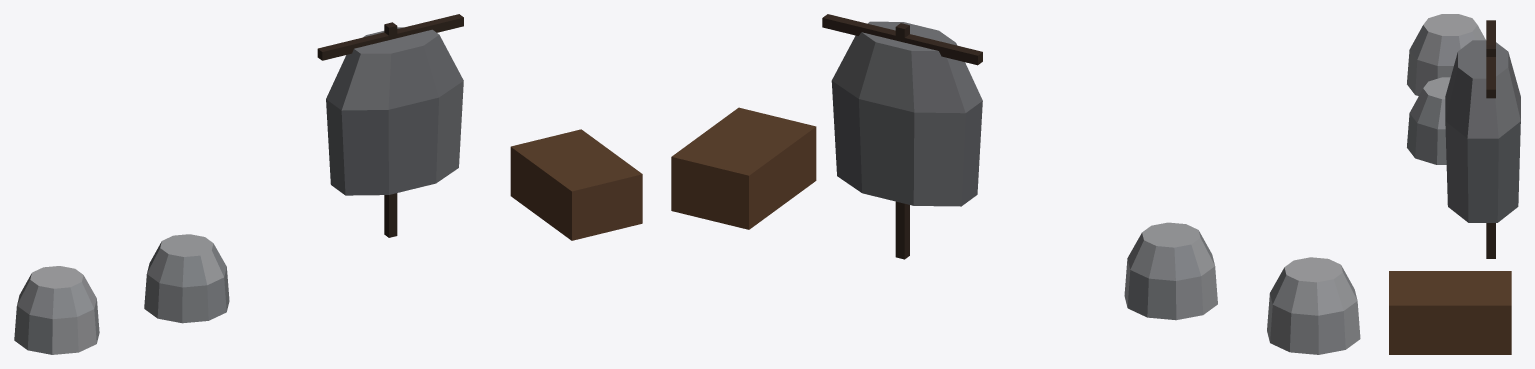
Rendered from walk_prop_goods_armor.glb.
The picture shows the model from 3 angles, left to right: view 1: azimuth 30°, elevation 25°; view 2: azimuth 150°, elevation 25°; view 3: azimuth 270°, elevation 25°; orthographic projection. The views are drawn at different scales.
Parts seen in each view (by area): view 1: walk_prop_goods_armor; view 2: walk_prop_goods_armor; view 3: walk_prop_goods_armor.
Boxes of the visible parts, <box> form: walk_prop_goods_armor: <box>14,14,642,354</box>; walk_prop_goods_armor: <box>671,14,1360,354</box>; walk_prop_goods_armor: <box>1389,14,1520,354</box>.
Bounding box in the file's own units: 2.5 × 0.85 × 0.4836.
2 materials, 2 textured.
